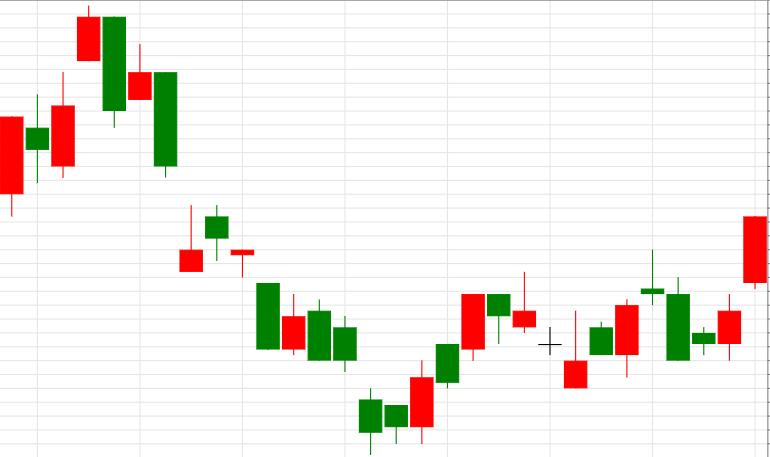evening_star_fall: (564, 250, 689, 389)
inverse_hammer_rise: (103, 16, 203, 272)
